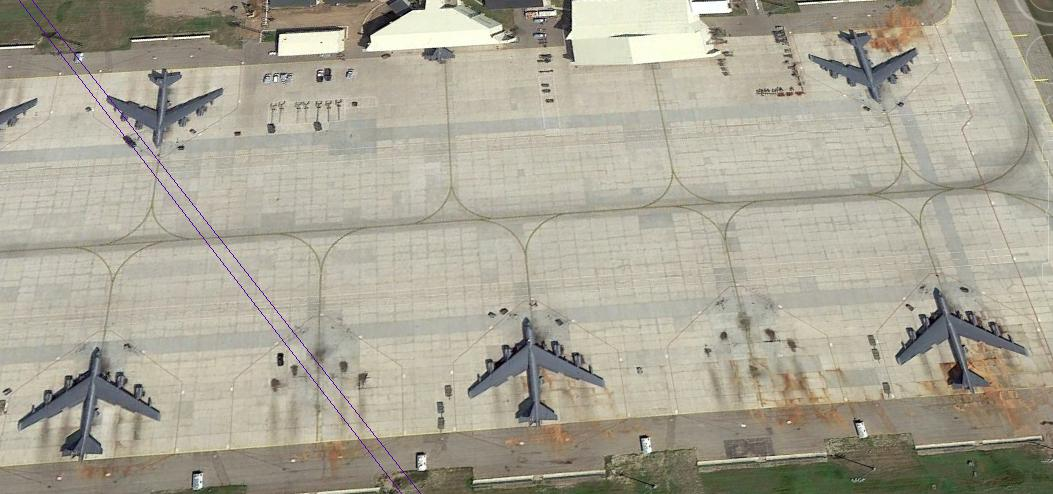B-52: (466, 316, 611, 423), (23, 350, 164, 459), (894, 287, 1028, 396), (108, 67, 224, 149), (806, 28, 925, 107)
